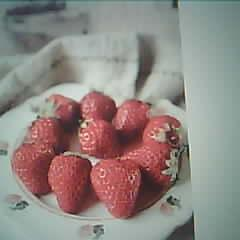straw-ripe: (93, 157, 141, 215), (48, 153, 90, 213)
